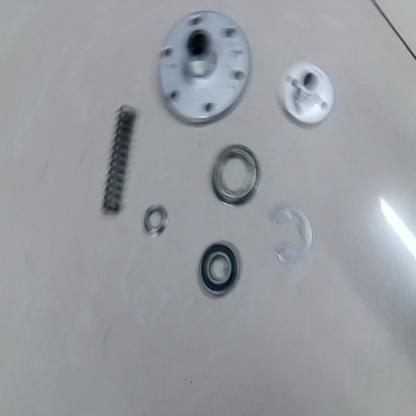FOD: (157, 9, 253, 127), (100, 104, 138, 216), (206, 140, 263, 210), (280, 61, 336, 126), (196, 236, 240, 300), (268, 207, 316, 264), (140, 201, 170, 238)
